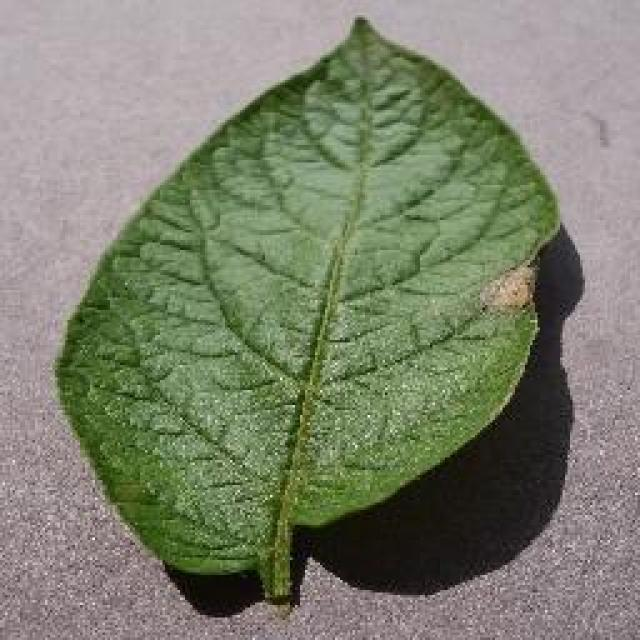Potato: (52, 13, 562, 605)
